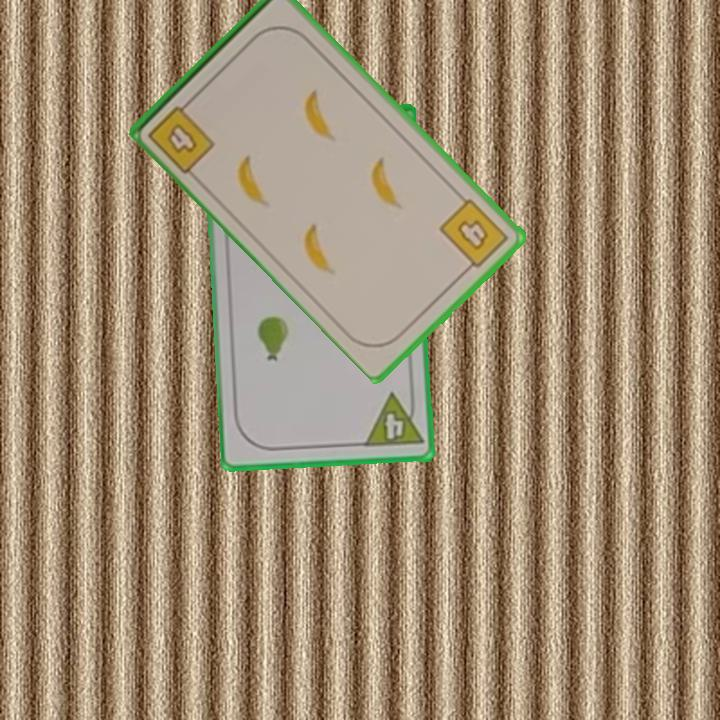4b: (435, 194, 512, 276), (144, 94, 219, 176)
4p: (361, 389, 426, 450)
